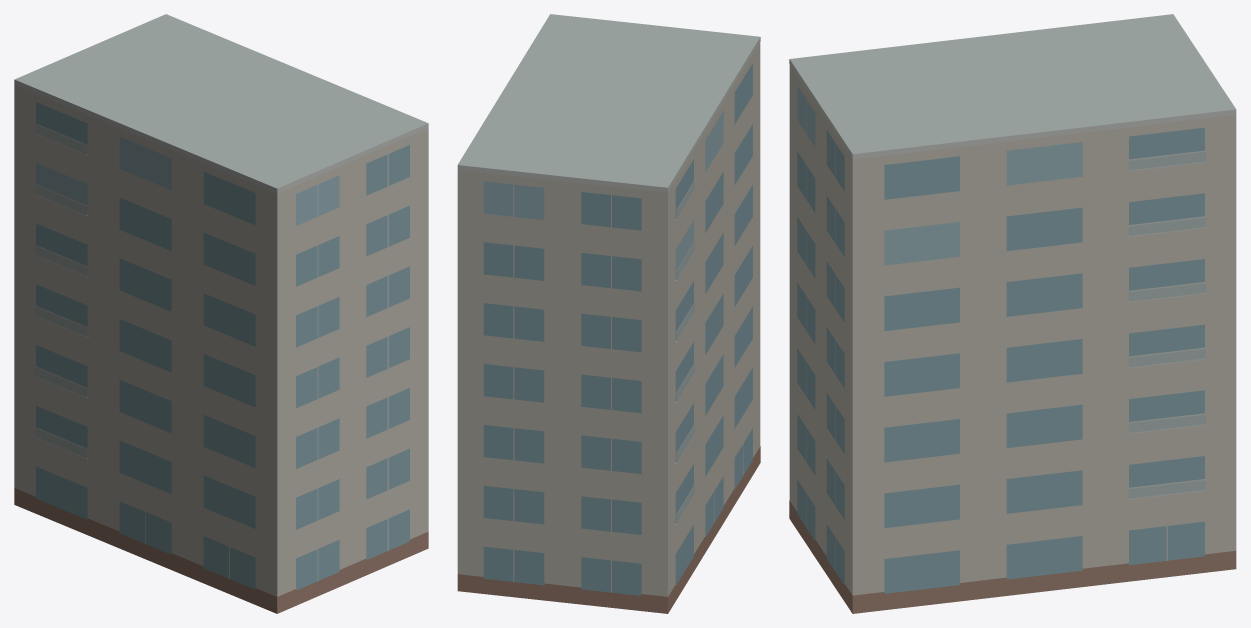
Rendered from survey-upis-32569552.glb.
3 views of the same model, side by side, from view 1: azimuth 30°, elevation 25°; view 2: azimuth 150°, elevation 25°; view 3: azimuth 270°, elevation 25° (orthographic). The views are drawn at different scales.
Parts seen in each view (by area): view 1: survey-upis-32569552.tmp; view 2: survey-upis-32569552.tmp; view 3: survey-upis-32569552.tmp.
Part boxes in pixels (x1,y1,x2,y2): survey-upis-32569552.tmp: [14, 14, 428, 613]; survey-upis-32569552.tmp: [457, 14, 760, 613]; survey-upis-32569552.tmp: [789, 14, 1236, 613].
Bounding box in the file's own units: 13.68 × 20.9 × 18.43.
